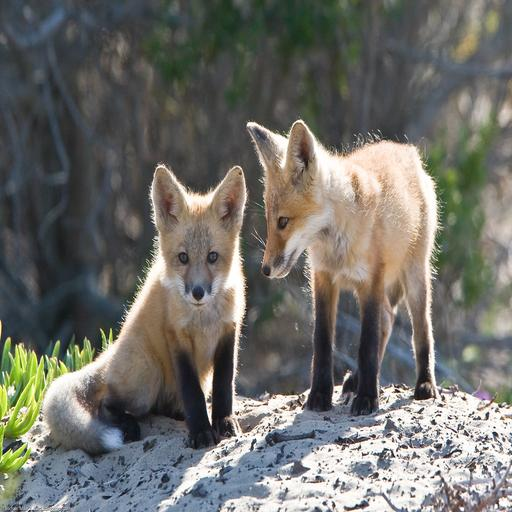Fox: (39, 162, 255, 459), (248, 119, 445, 420)
